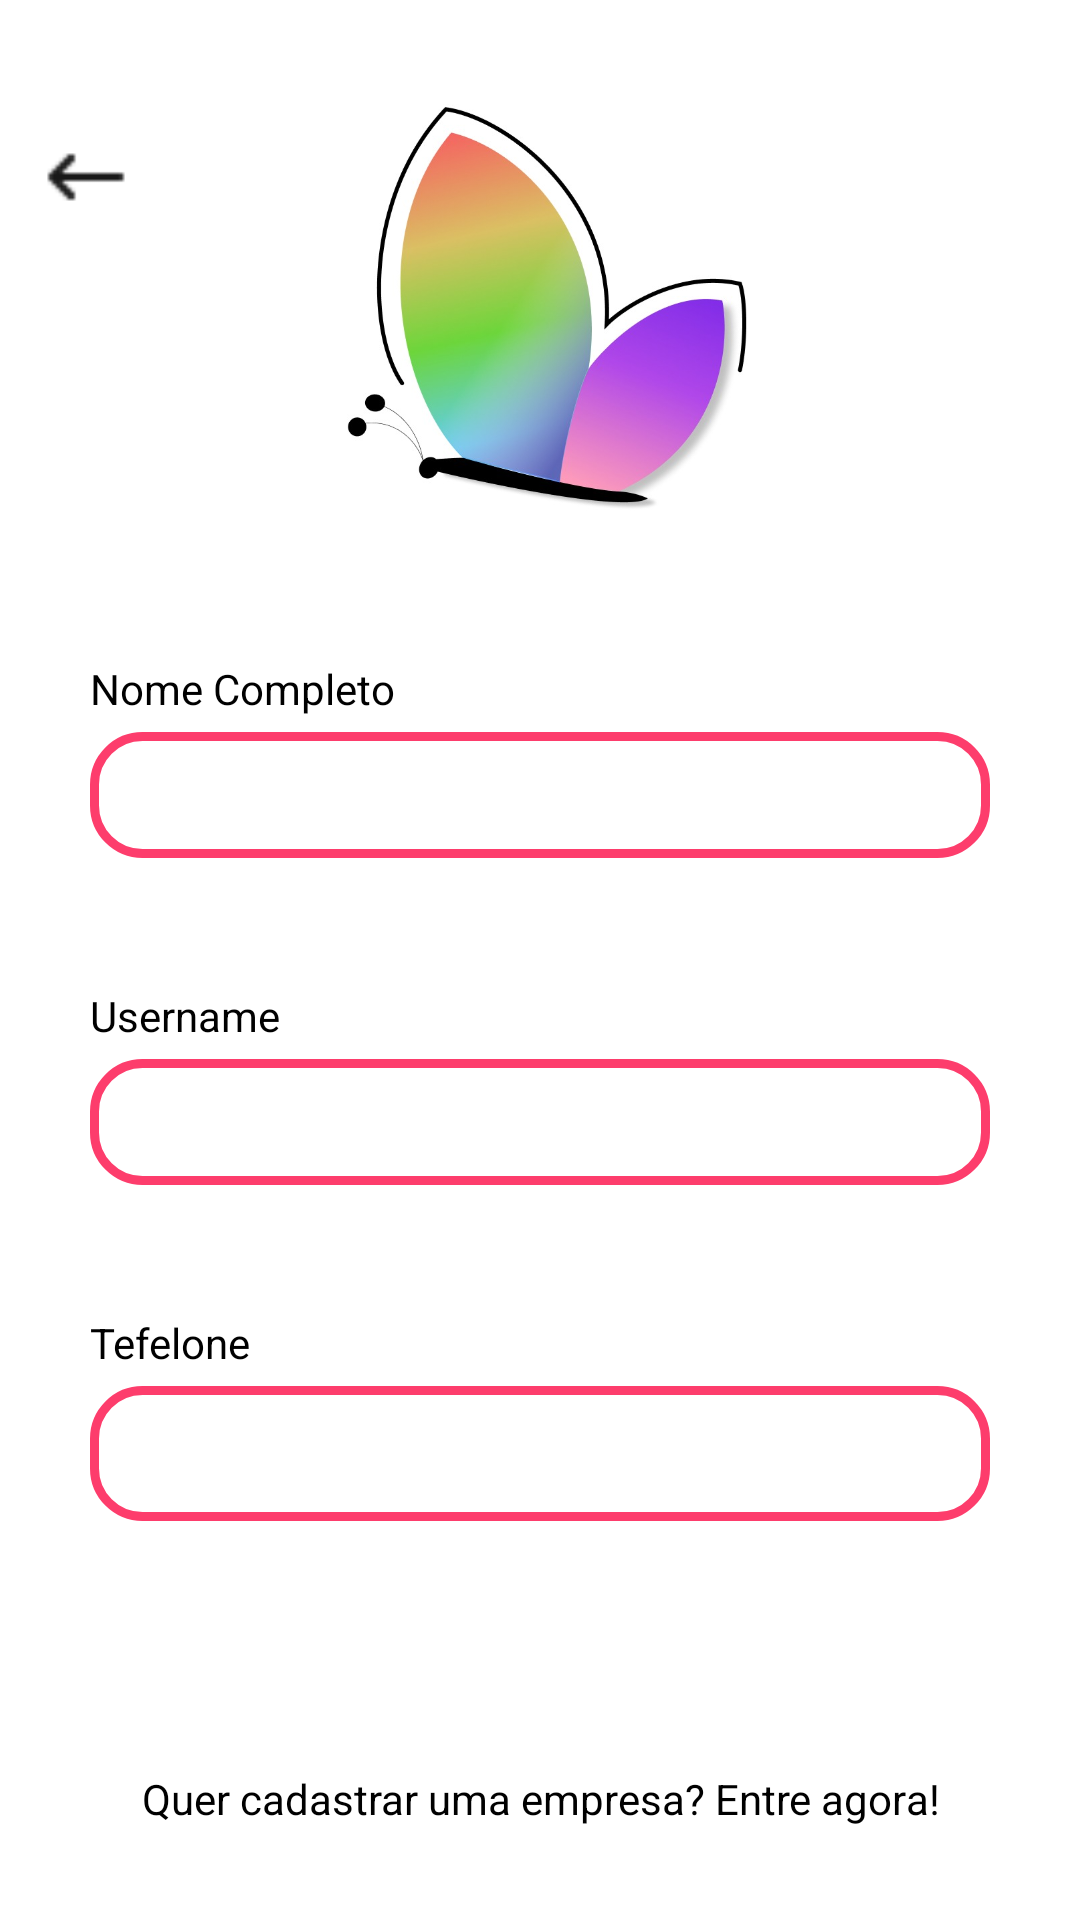

Screen size 1080w x 1920h. Icon name, then its box in pixels as (x1, y1, x2, y2):
voltar seta: (47, 153, 125, 201)
